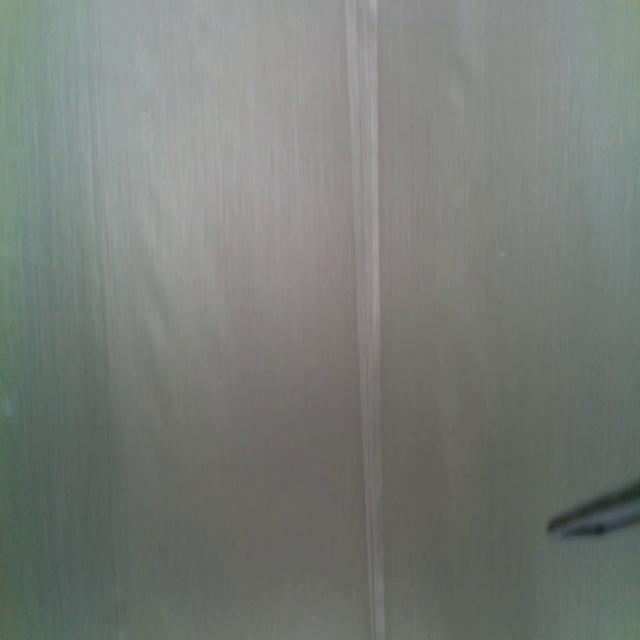crease: (345, 0, 385, 640)
